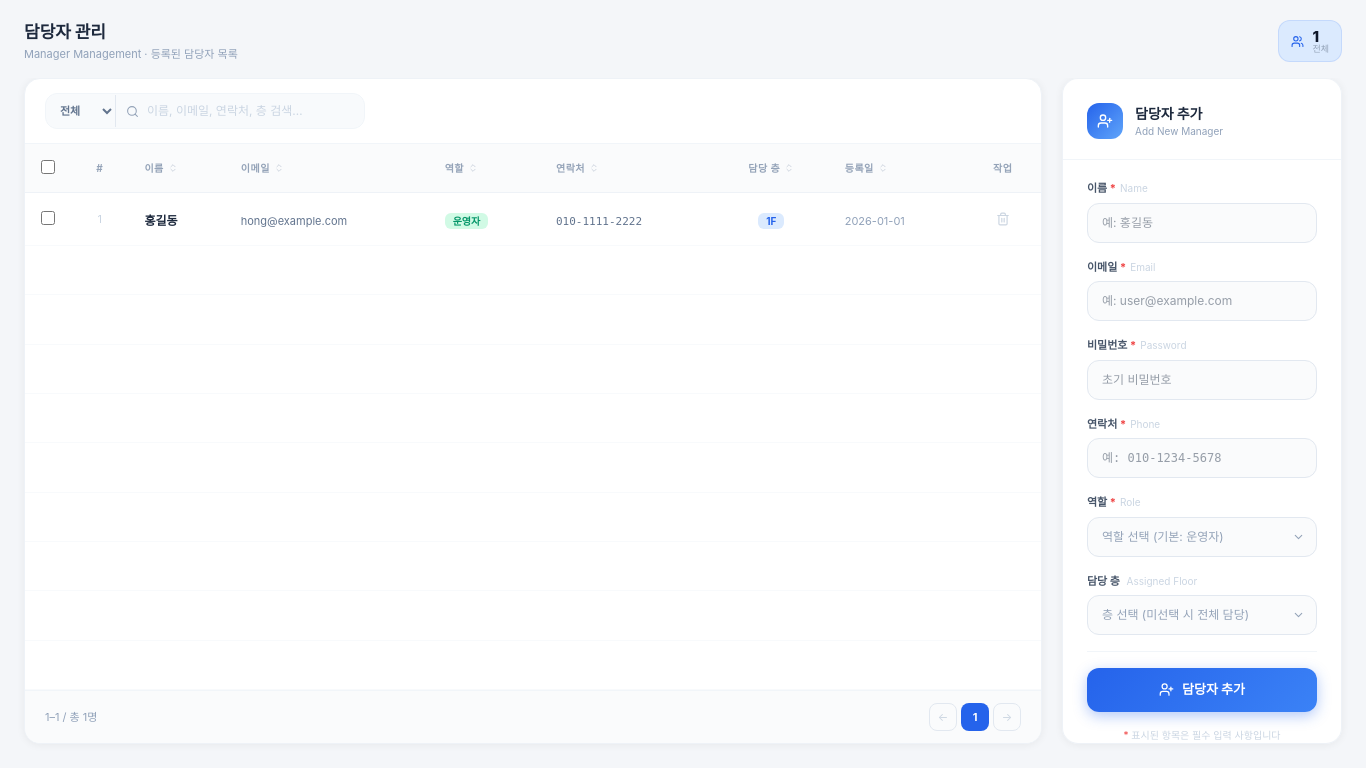
it: ManagersPage › selects an admin row and enables the bulk delete button
Click the checkbox in the row of "홍길동".
click(48, 218)  # box [41,211,55,225]
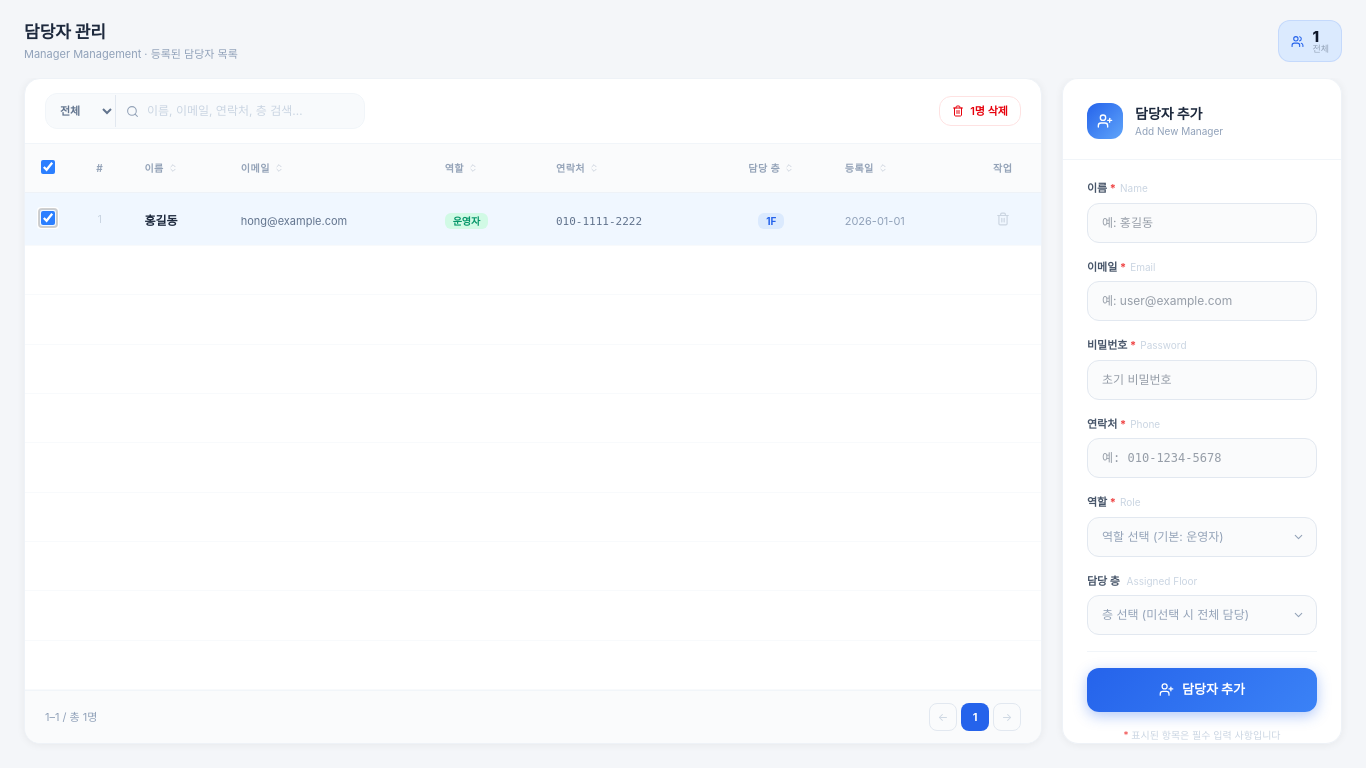
Result: the button "1명 삭제" is shown at [939,96,1021,126]
